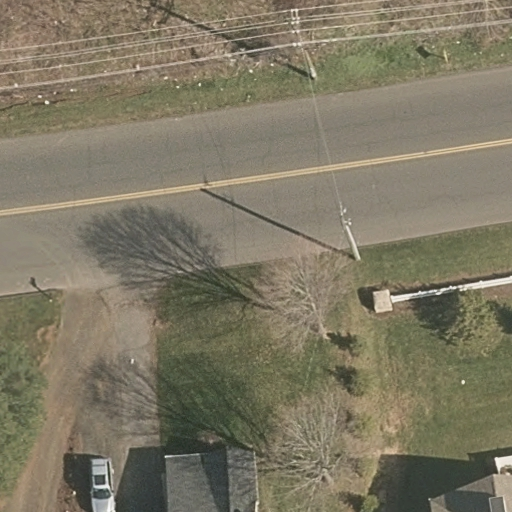DT: (270, 3, 326, 86)
